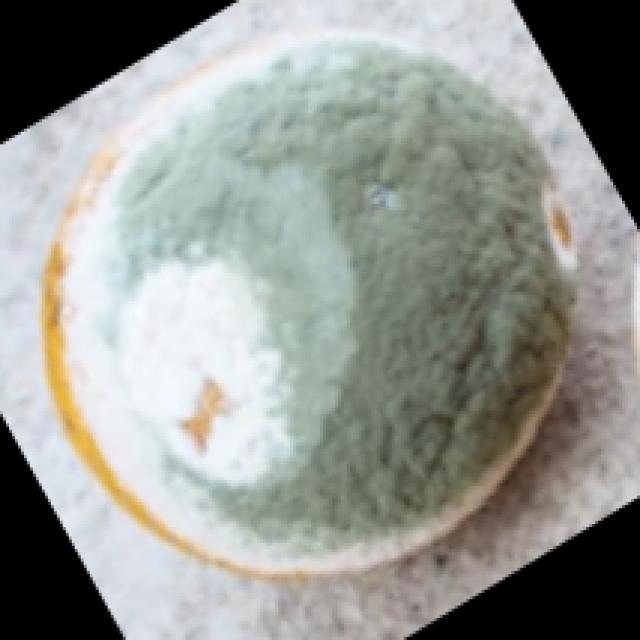sangat-busuk: (51, 33, 569, 574)
